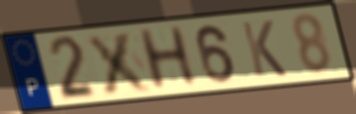2: (47, 34, 100, 104)
6: (194, 22, 238, 85)
8: (289, 11, 334, 77)
H: (134, 23, 201, 94)
K: (238, 18, 290, 79)
X: (83, 29, 156, 96)
